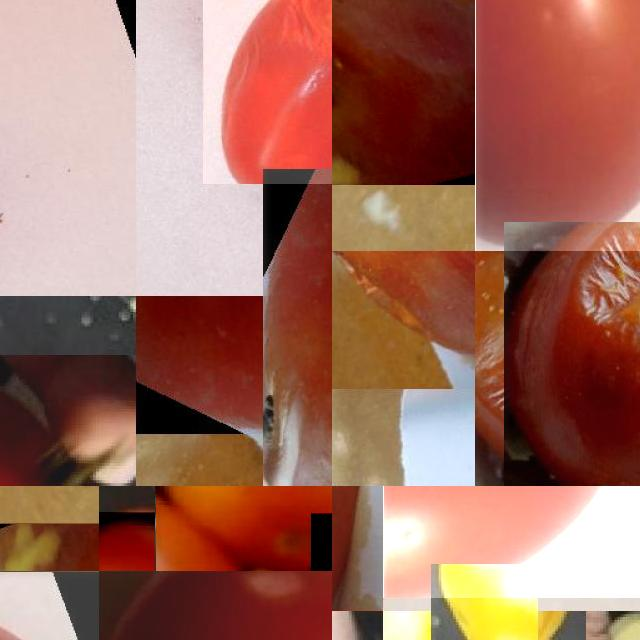Fresh Tomato: (475, 0, 640, 251), (383, 486, 640, 598), (0, 355, 136, 486), (99, 571, 332, 640), (155, 486, 332, 571)
Rotten Tomato: (489, 236, 640, 486), (199, 232, 332, 486), (332, 0, 475, 185), (203, 0, 332, 184), (332, 251, 475, 389), (406, 587, 561, 640)
